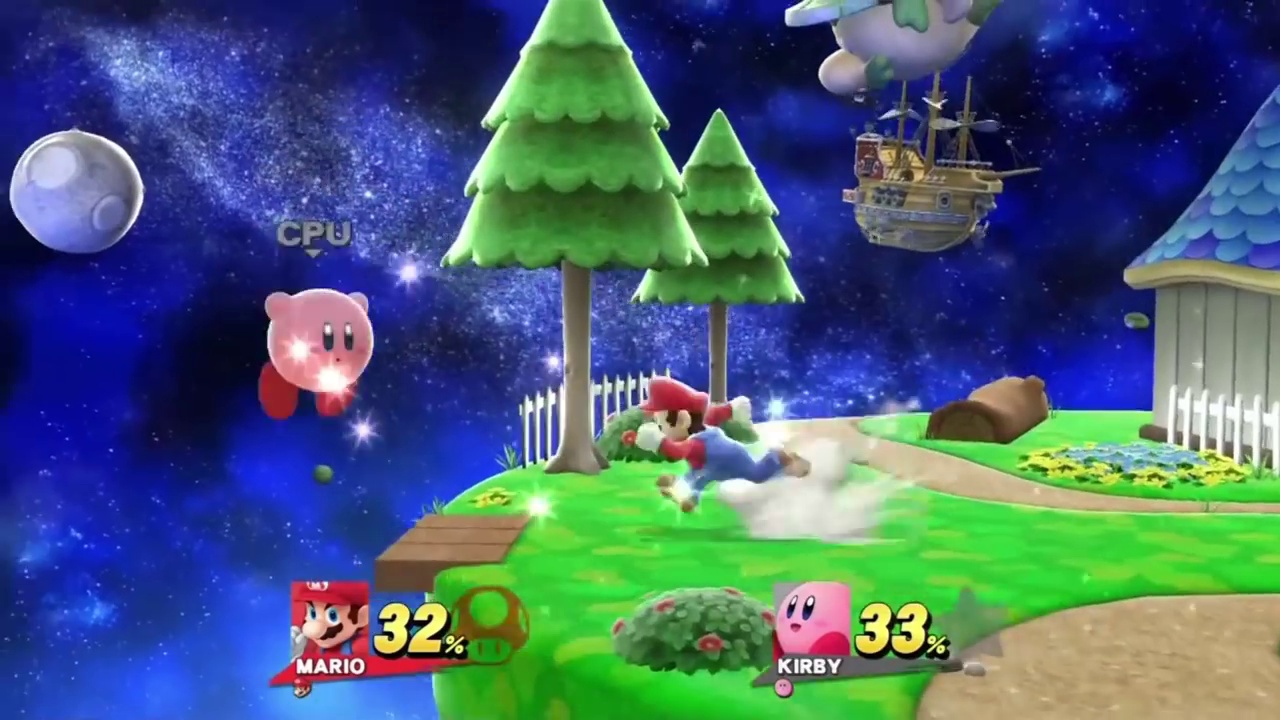Mario: (635, 378, 807, 512)
